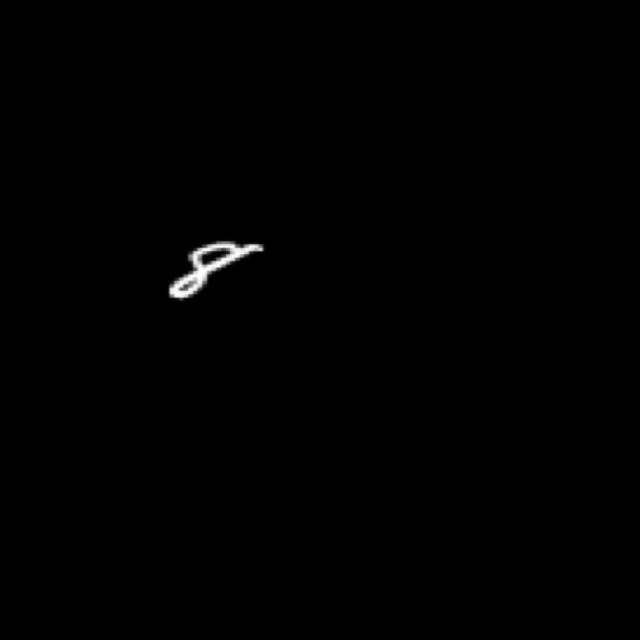eight -8-: (157, 236, 266, 304)
